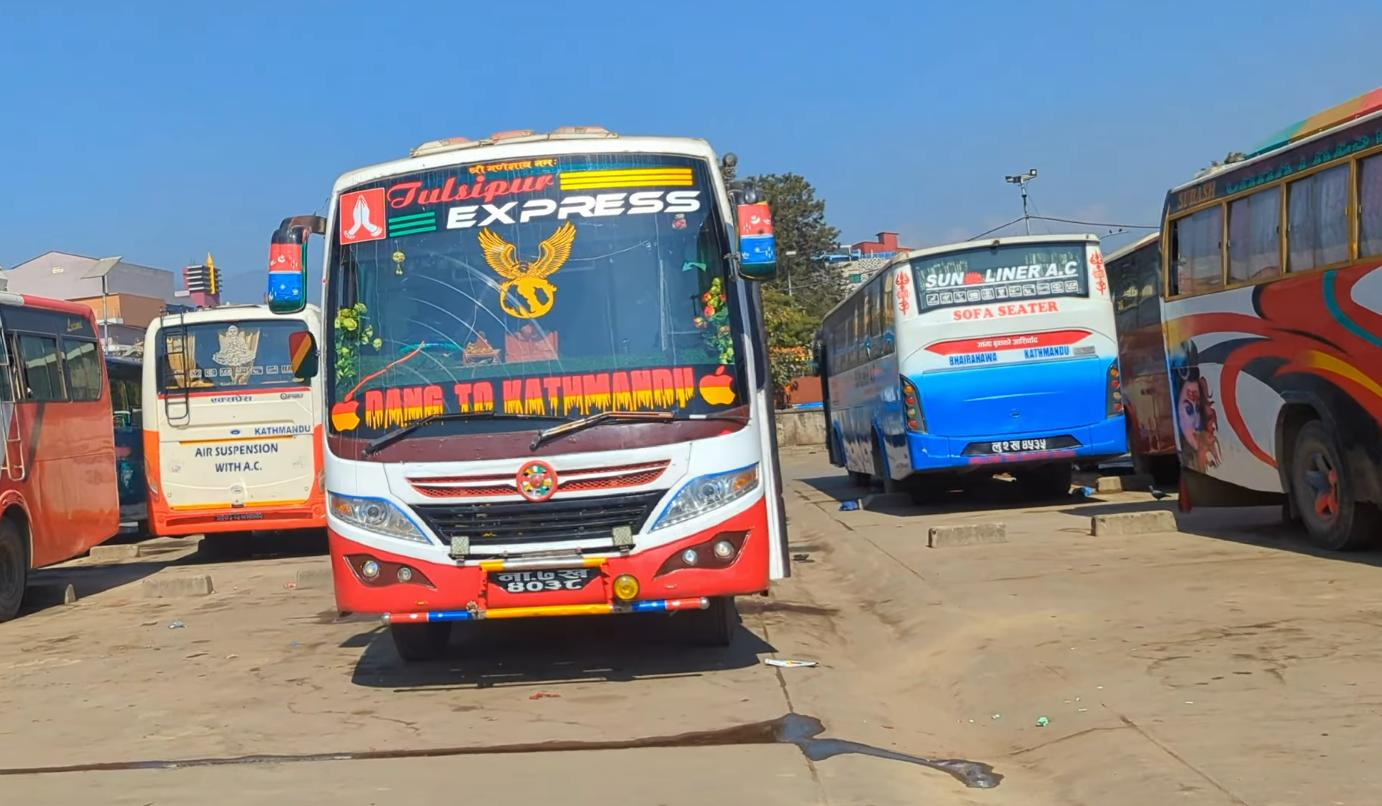bus: (278, 114, 791, 658), (810, 230, 1125, 504), (135, 303, 339, 549)
